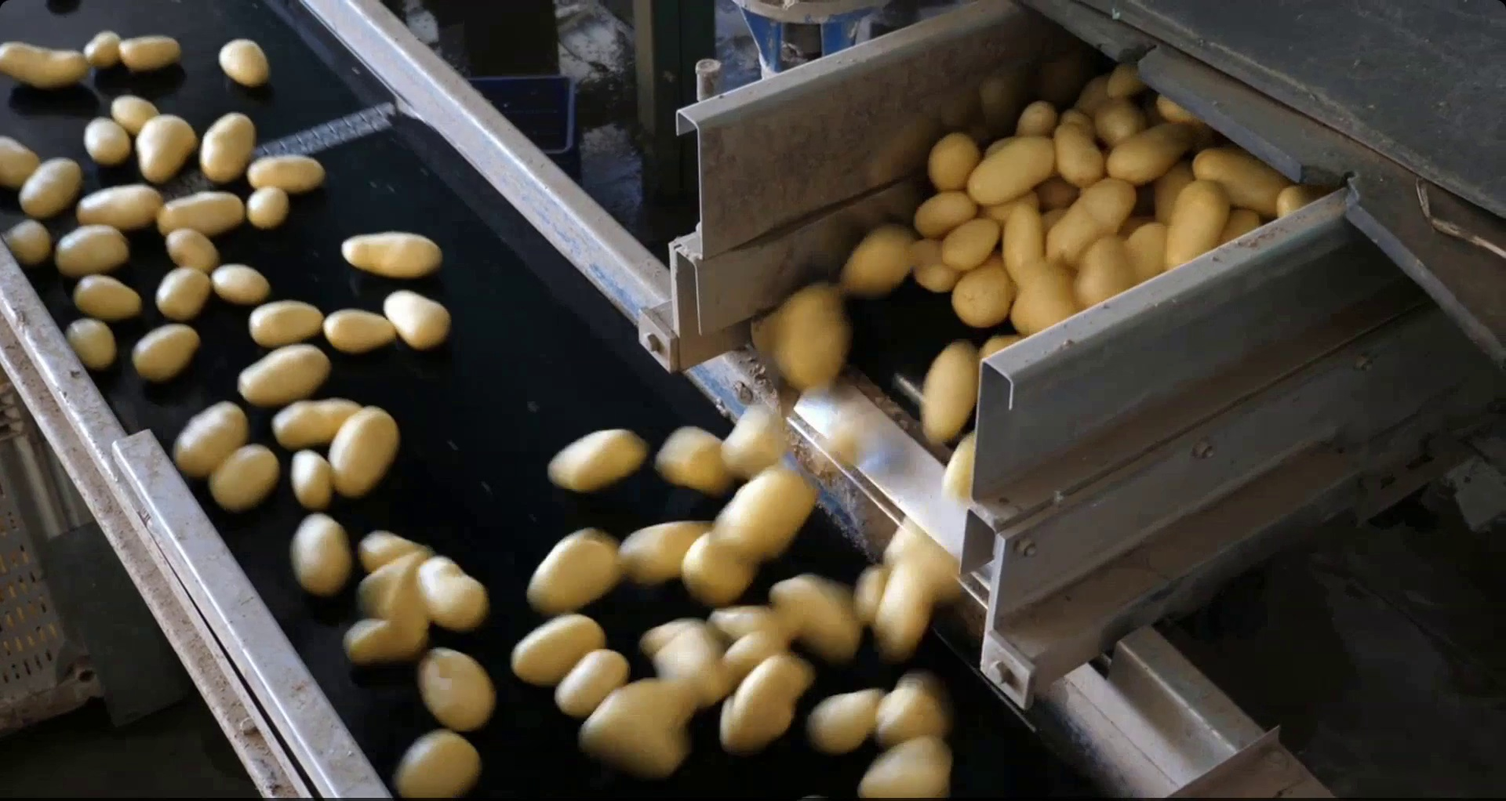potato: (569, 675, 709, 780), (704, 460, 825, 573), (760, 277, 855, 394), (520, 524, 629, 619), (763, 571, 867, 667), (718, 651, 817, 748), (643, 616, 739, 710), (1044, 175, 1138, 271), (503, 610, 617, 689), (1186, 139, 1294, 221), (537, 421, 651, 498), (830, 213, 919, 303), (846, 731, 960, 801), (615, 516, 722, 590), (415, 644, 500, 737), (870, 555, 938, 669), (328, 400, 404, 502), (388, 723, 487, 801), (649, 419, 742, 502), (1162, 175, 1235, 278), (711, 401, 806, 479), (231, 339, 336, 409), (962, 132, 1060, 207), (167, 398, 252, 484), (917, 332, 979, 448), (672, 528, 759, 609), (410, 553, 493, 637), (868, 673, 960, 747), (800, 683, 891, 756), (285, 507, 356, 600), (1101, 120, 1201, 186), (549, 647, 638, 720), (336, 226, 449, 283), (206, 436, 285, 516), (1006, 260, 1082, 336), (2, 32, 98, 92), (618, 672, 710, 734), (265, 396, 368, 451), (68, 179, 169, 235), (129, 111, 199, 189), (125, 321, 207, 385), (379, 286, 457, 353), (194, 108, 261, 185), (1071, 230, 1135, 310), (154, 188, 247, 243), (946, 262, 1015, 335), (379, 549, 436, 637), (13, 153, 86, 220), (49, 221, 136, 277), (808, 413, 881, 477), (317, 304, 400, 359), (246, 296, 329, 350), (1049, 118, 1115, 184), (337, 614, 426, 662), (720, 625, 793, 683), (59, 311, 121, 378), (938, 213, 1005, 275), (921, 125, 981, 194), (66, 271, 147, 321), (935, 424, 984, 505), (2, 118, 48, 204), (212, 34, 280, 92), (706, 601, 799, 643), (246, 152, 330, 197), (1145, 159, 1198, 230), (1125, 215, 1175, 290), (1000, 198, 1046, 279), (909, 188, 980, 238), (150, 265, 212, 321), (206, 258, 273, 309), (847, 559, 893, 633), (354, 527, 431, 571), (78, 111, 133, 170), (112, 31, 187, 74), (1, 214, 56, 272), (1211, 200, 1266, 256), (162, 225, 224, 274), (289, 447, 335, 513), (107, 89, 167, 139), (910, 237, 959, 297), (1268, 179, 1327, 227), (1093, 92, 1142, 147), (243, 181, 293, 230), (971, 329, 1031, 365), (1155, 90, 1210, 129), (1011, 94, 1057, 140), (82, 28, 129, 71), (1102, 54, 1144, 101), (1034, 172, 1077, 215), (1073, 70, 1115, 114), (1054, 103, 1103, 139), (353, 574, 397, 610), (979, 130, 1014, 159)
